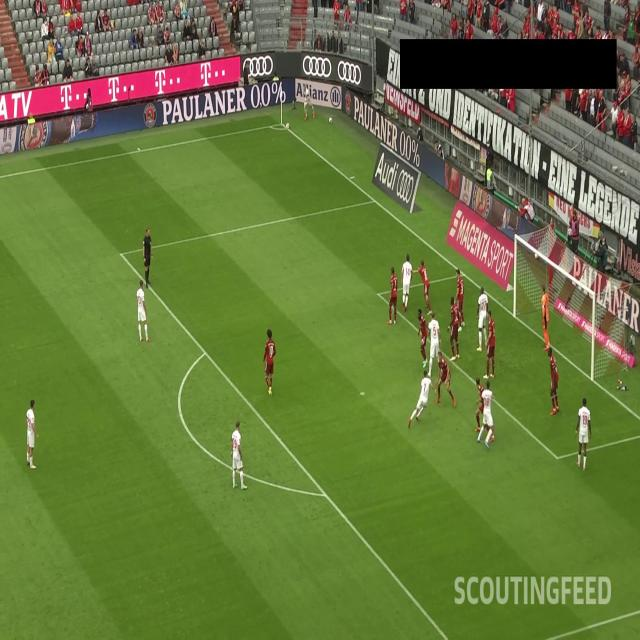ball: (285, 118, 292, 130)
player: (405, 368, 436, 429), (229, 418, 249, 494), (433, 348, 457, 411), (471, 378, 495, 441), (574, 394, 593, 472), (22, 398, 41, 471), (411, 257, 433, 315), (444, 292, 462, 362), (536, 282, 554, 352), (135, 278, 153, 344), (425, 308, 442, 374), (476, 379, 492, 449), (544, 347, 560, 415), (475, 280, 490, 352), (262, 324, 277, 394), (414, 307, 429, 373), (399, 249, 414, 308), (386, 263, 400, 325), (483, 308, 495, 380), (454, 266, 466, 330), (302, 78, 314, 124)
referee: (141, 228, 154, 290)
